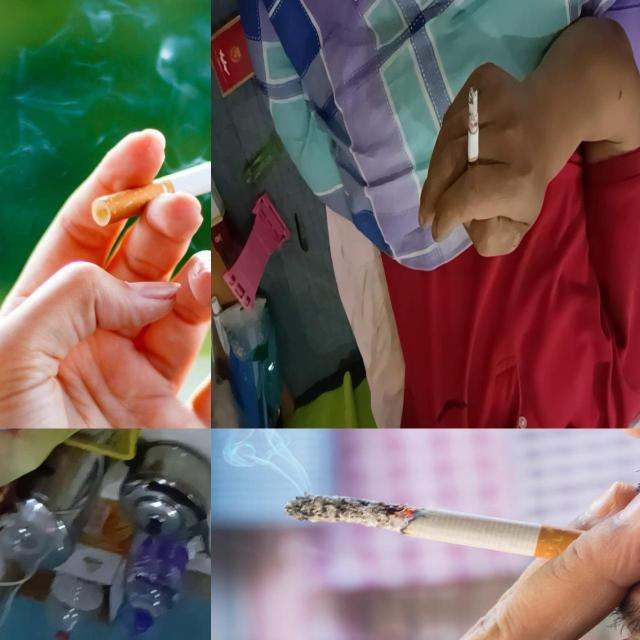smoking: (276, 489, 580, 562), (91, 158, 211, 228), (467, 86, 479, 190)
